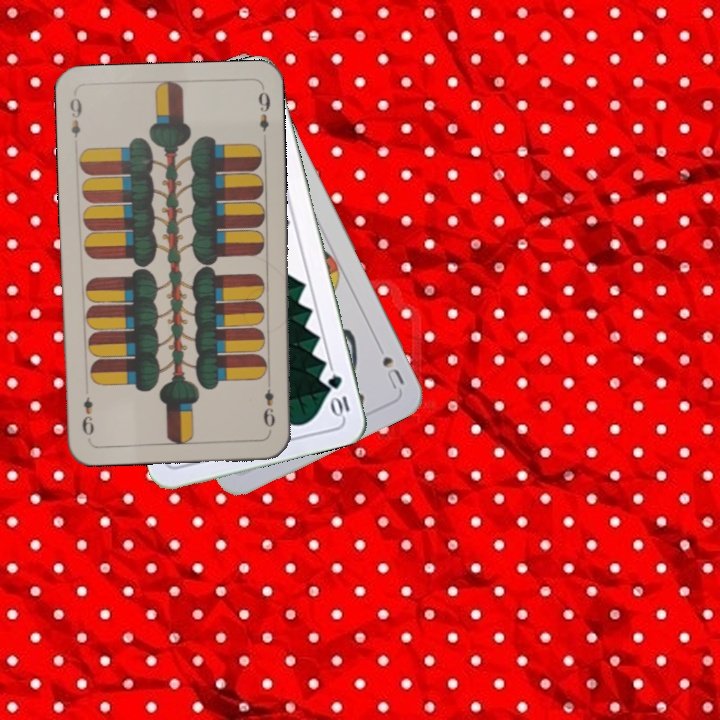E9: (65, 93, 85, 141), (259, 385, 278, 430)
G10: (324, 370, 352, 420)
SU: (378, 352, 407, 392)
